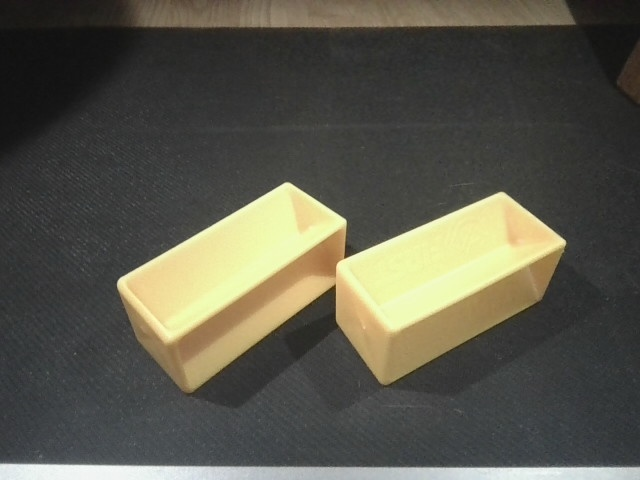YellowSample: (110, 177, 353, 397), (331, 187, 570, 389)
